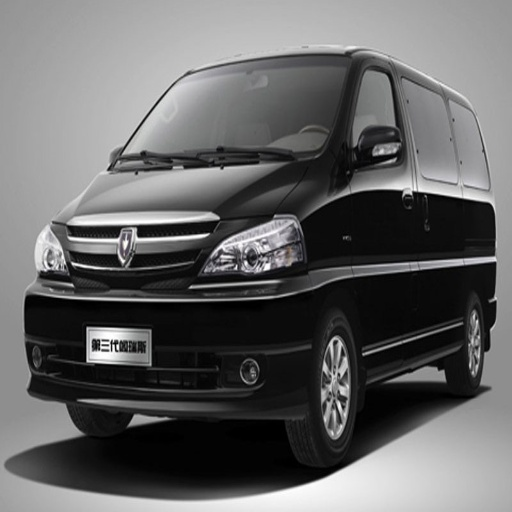front_bumper: (24, 215, 315, 417)
front_glass: (111, 60, 348, 169)
front_left_door: (337, 59, 434, 351)
front_right_light: (35, 221, 66, 279)
